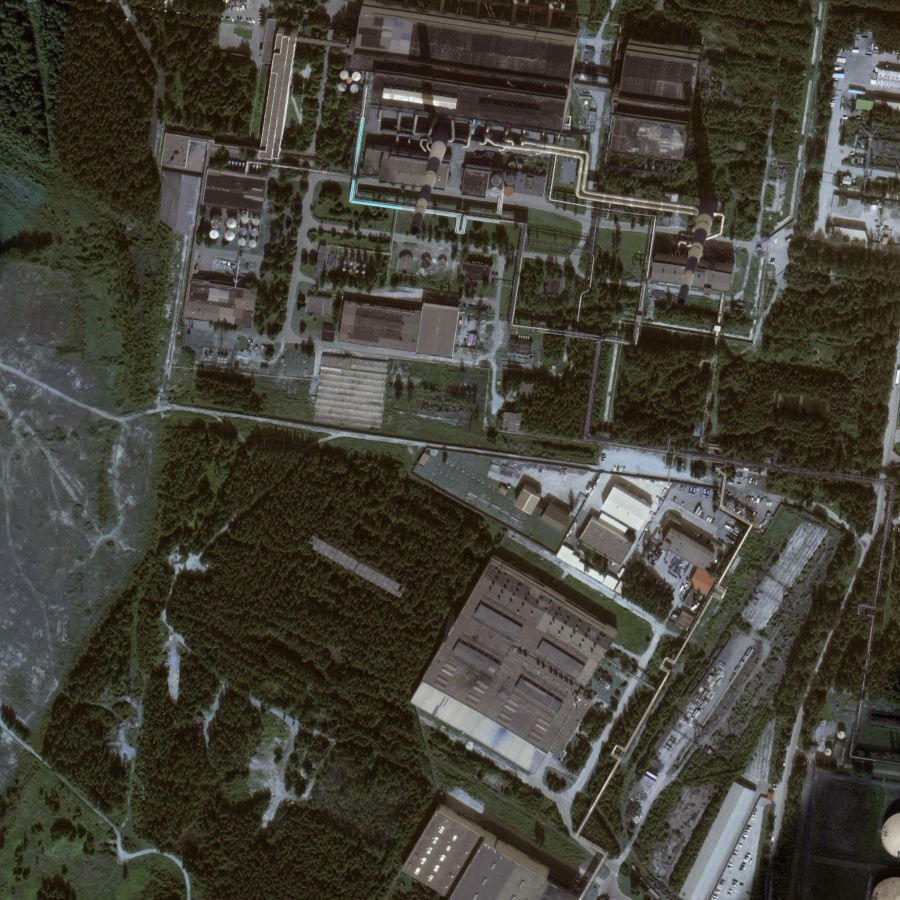PowerPlant: (363, 2, 721, 322)
